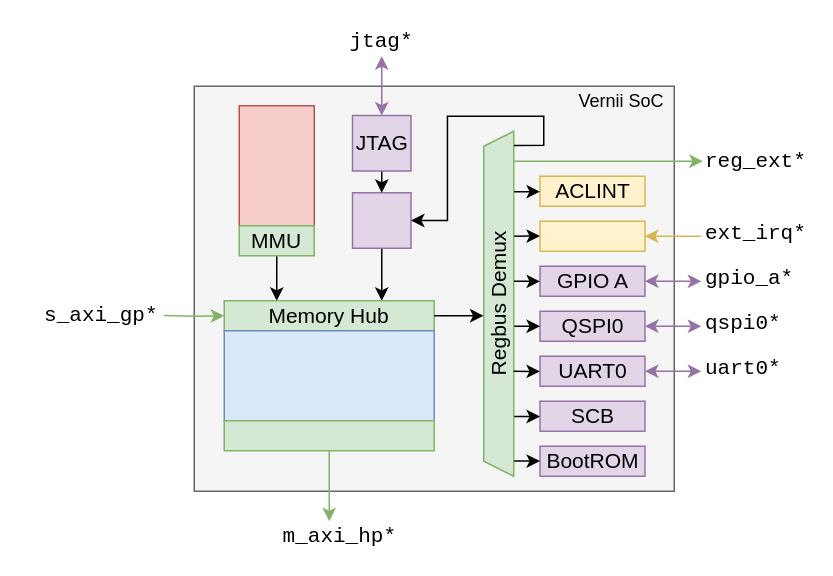
Image size: 833x576. Some labels were removed from this diagram. Here are the shapes that lost their labels. From the top down, the box of each, then its label:
(238, 104, 314, 226): FRISC-V
(351, 191, 411, 248): DM
(538, 220, 645, 251): PLIC
(223, 329, 434, 421): On-Chip Memory/ Last Level Cache
(223, 419, 434, 451): AXI4 Full Bridge
